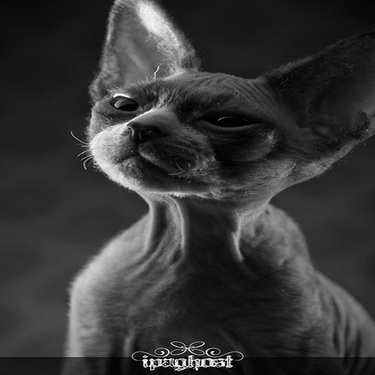cat: (63, 6, 368, 352)
